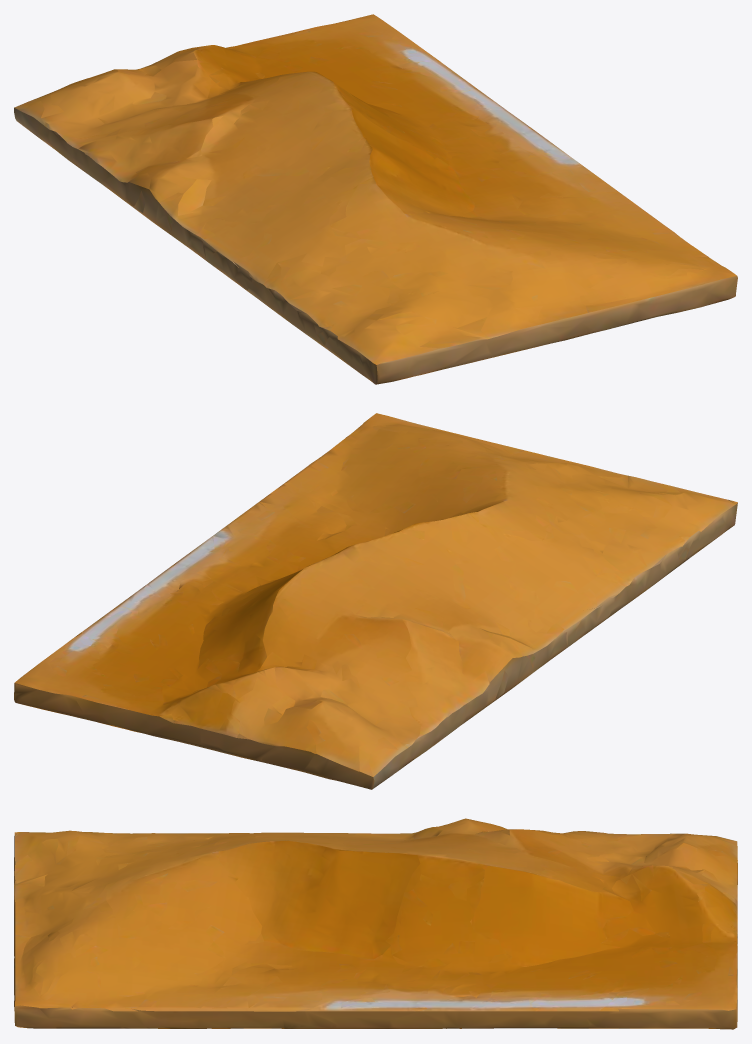
File: tottori-sand-dunes.glb
3 views of the same model, one above another, from view 1: azimuth 30°, elevation 25°; view 2: azimuth 150°, elevation 25°; view 3: azimuth 270°, elevation 25° (orthographic).
Visible parts, largest first — view 1: logan-textured.obj; view 2: logan-textured.obj; view 3: logan-textured.obj.
Part boxes in pixels (bbox=[...]): logan-textured.obj: bbox=[14, 14, 737, 384]; logan-textured.obj: bbox=[14, 413, 737, 789]; logan-textured.obj: bbox=[14, 818, 737, 1029].
Bounding box in the file's own units: 0.5773 × 0.1317 × 1.
Materials: 1 (1 with a texture image).
